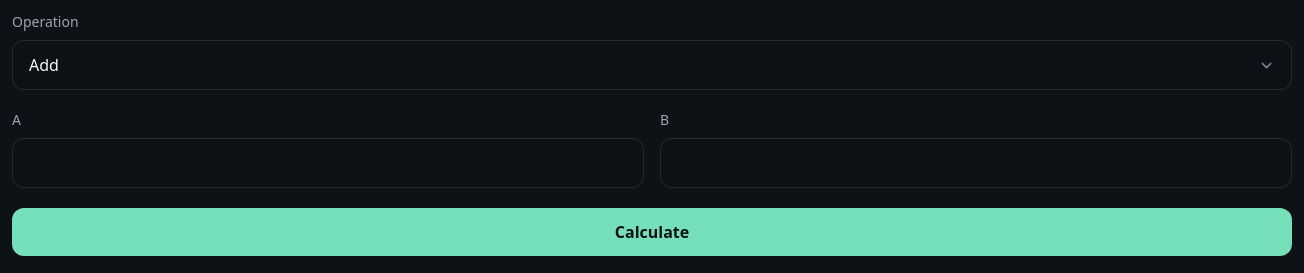
it: CalculatorForm › hides operand B for a unary operation
Select "Square Root" in the dropdown labelled "Operation": (652, 65) top-left (12, 40), bottom-right (1292, 90)
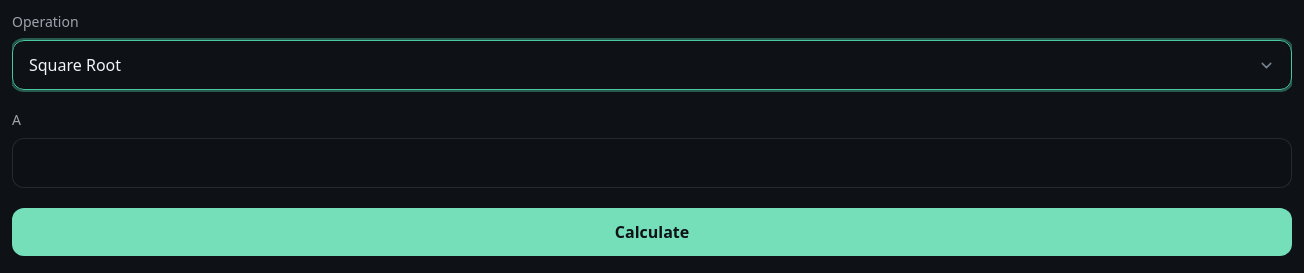
Result: the label labelled "B" is gone
